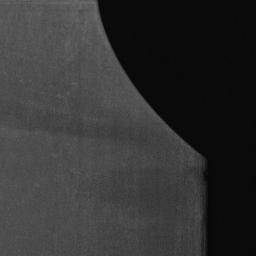Crescent gap: (98, 0, 202, 155)
